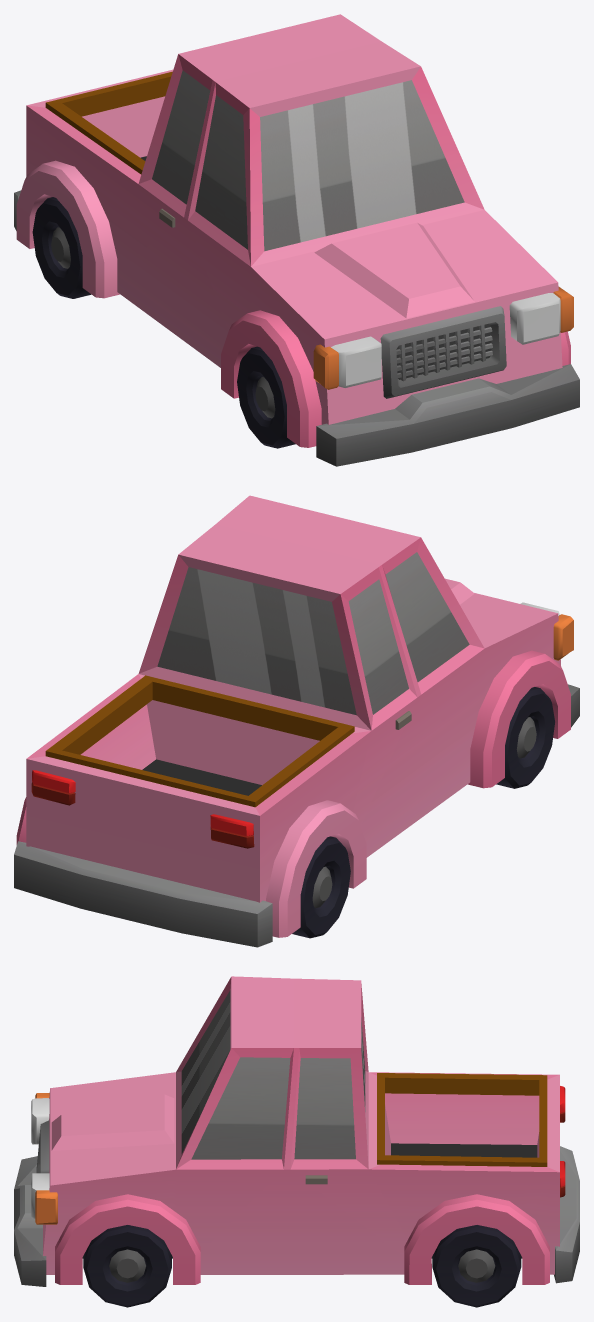
Rendered from PickUp_7.fbx.
3 views of the same model, one above another, from view 1: azimuth 30°, elevation 25°; view 2: azimuth 150°, elevation 25°; view 3: azimuth 270°, elevation 25° (orthographic). The views are drawn at different scales.
Visible parts, largest first — view 1: PickUp_7, BWhel_BR, BWhel_FR; view 2: PickUp_7, BWhel_BR, BWhel_FR; view 3: PickUp_7, BWhel_BL, BWhel_FL.
Part boxes in pixels (x1,y1,x2,y2): PickUp_7: (14,14,579,466); BWhel_BR: (32,197,91,298); BWhel_FR: (237,346,295,448); PickUp_7: (14,495,579,947); BWhel_BR: (292,836,350,938); BWhel_FR: (496,687,554,788); PickUp_7: (14,976,579,1286); BWhel_BL: (432,1225,521,1307); BWhel_FL: (83,1225,171,1307).
Size of the model in its own units: 109 by 108 by 230.
